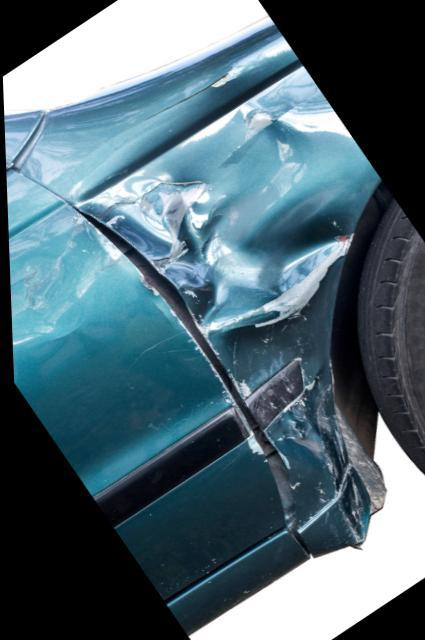dent: (79, 109, 350, 444), (7, 225, 97, 353)
dislocated part: (73, 63, 387, 557)
